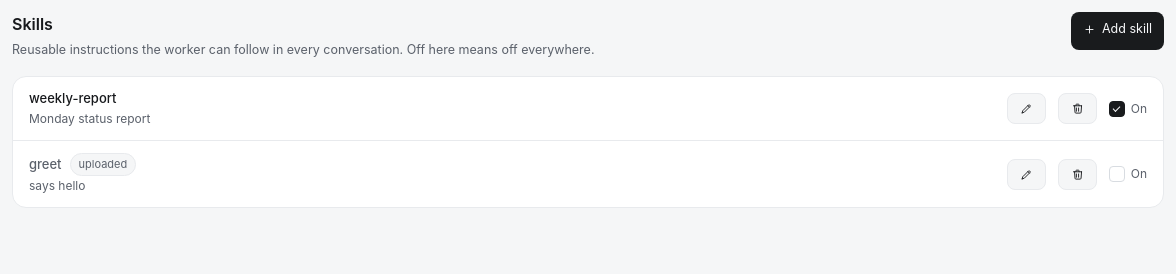
SkillsTab › the enabled switch PATCHes {enabled} and teaches the off rule + physics footnote
Expected: the text "weekly-report" is shown, [29,89,116,109]
Click the switch named "weekly-report enabled": (1117, 109) [1109,101,1125,117]
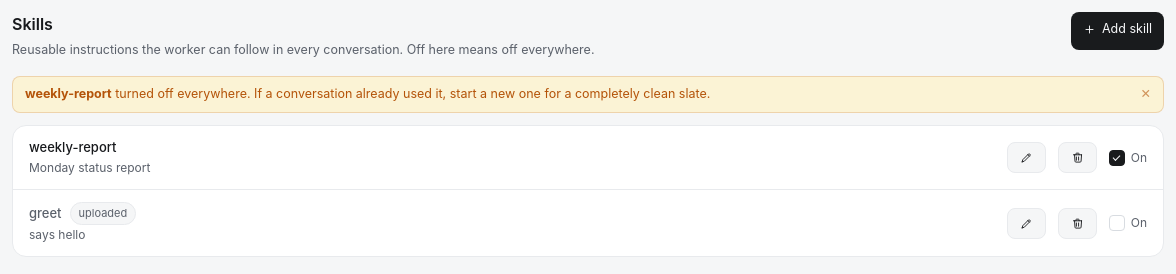
Expected: the message shows "weekly-report", [25,86,112,101]
Expected: the message shows "turned off everywhere", [115,86,710,101]
Expected: the message shows "clean slate", [115,86,710,101]
